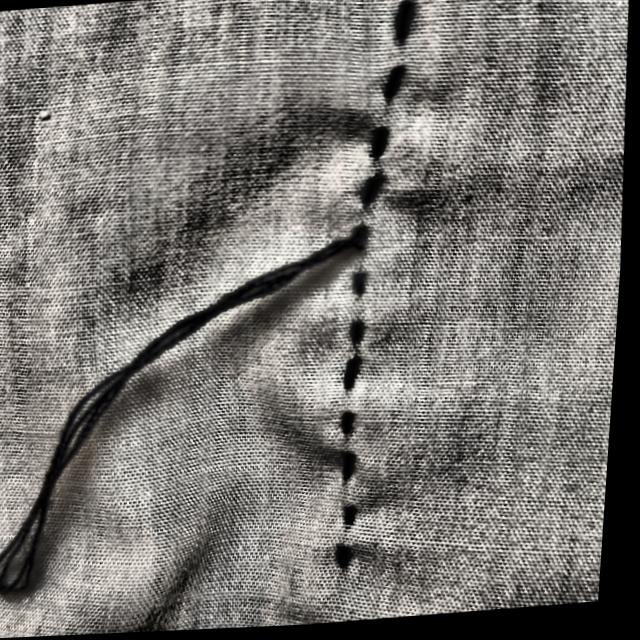Stitch: (0, 211, 424, 607)
